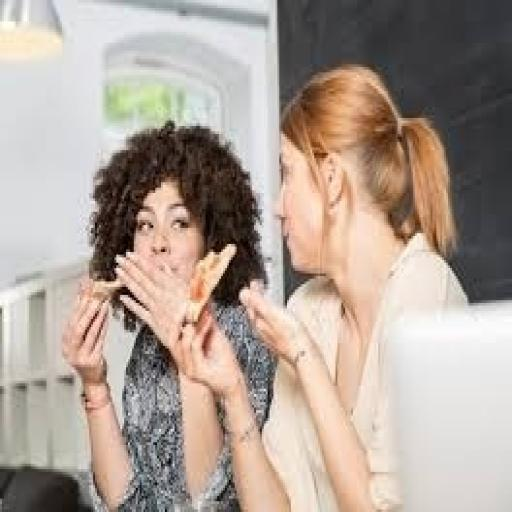eating: (176, 62, 472, 509), (58, 118, 276, 509)
